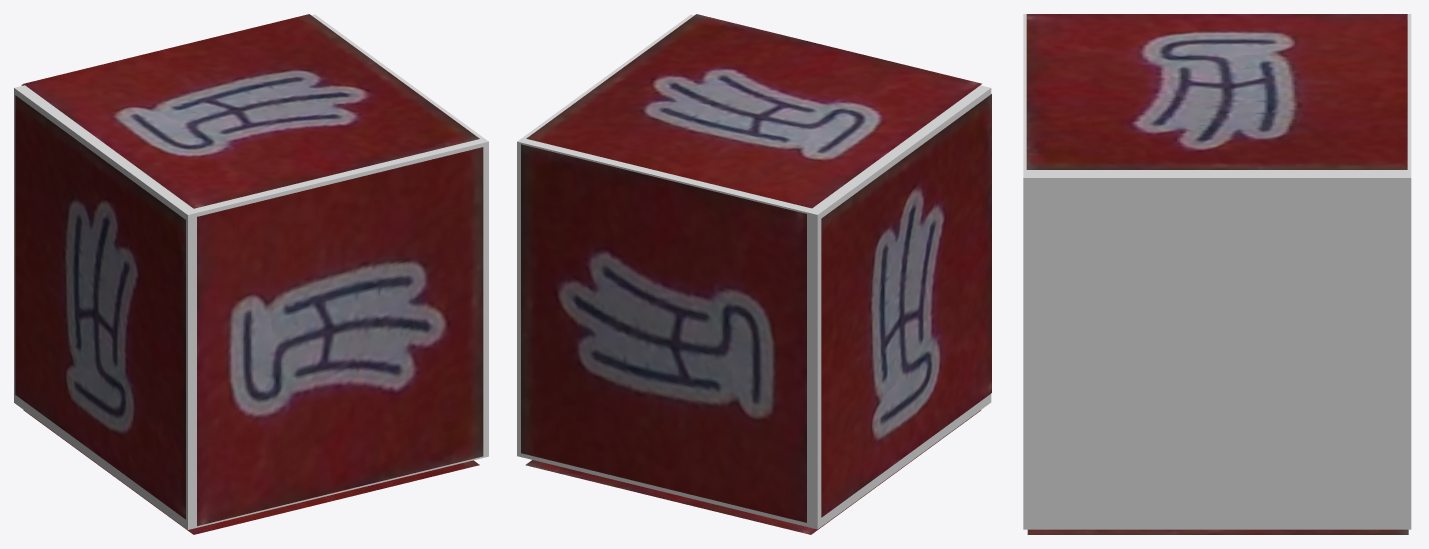
3 views of the same model, side by side, from view 1: azimuth 30°, elevation 25°; view 2: azimuth 150°, elevation 25°; view 3: azimuth 270°, elevation 25° (orthographic). The views are drawn at different scales.
Parts seen in each view (by area): view 1: fake2.png.005, fake2.png.001, fake2.png.003, Link35, fake2.png.004; view 2: fake2.png.002, fake2.png.001, fake2.png.003, Link35, fake2.png.004; view 3: Link35, fake2.png.003, fake2.png.004.
Boxes of the visible parts, box(x1,y1,x2,y2) form: fake2.png.005: box(197, 147, 483, 525); fake2.png.001: box(15, 95, 185, 519); fake2.png.003: box(23, 14, 479, 208); Link35: box(14, 14, 488, 529); fake2.png.004: box(23, 410, 479, 534); fake2.png.002: box(521, 144, 806, 522); fake2.png.001: box(821, 94, 991, 517); fake2.png.003: box(526, 14, 981, 208); Link35: box(517, 14, 991, 529); fake2.png.004: box(525, 410, 981, 534); Link35: box(1023, 14, 1411, 529); fake2.png.003: box(1026, 14, 1407, 169); fake2.png.004: box(1027, 529, 1408, 534).
Bounding box in the file's own units: 0.3515 × 0.3561 × 0.3629.
1 material, 1 textured.
